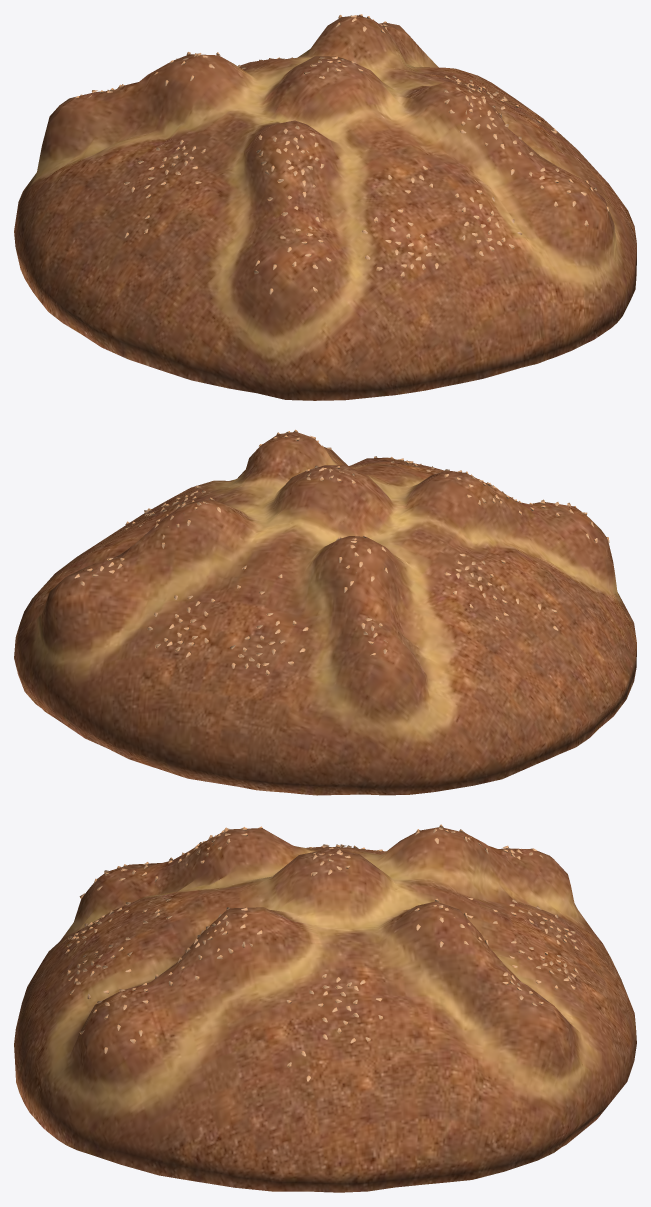
Rendered from pan.glb.
The picture shows the model from 3 angles, top to bottom: view 1: azimuth 30°, elevation 25°; view 2: azimuth 150°, elevation 25°; view 3: azimuth 270°, elevation 25°; orthographic projection. The views are drawn at different scales.
Parts seen in each view (by area): view 1: Object_2; view 2: Object_2; view 3: Object_2.
Boxes of the visible parts, <box> form: Object_2: <box>14,14,636,400</box>; Object_2: <box>14,429,636,795</box>; Object_2: <box>14,824,636,1192</box>.
Size of the model in its own units: 3.62 by 1.36 by 3.55.
1 material, 1 textured.
